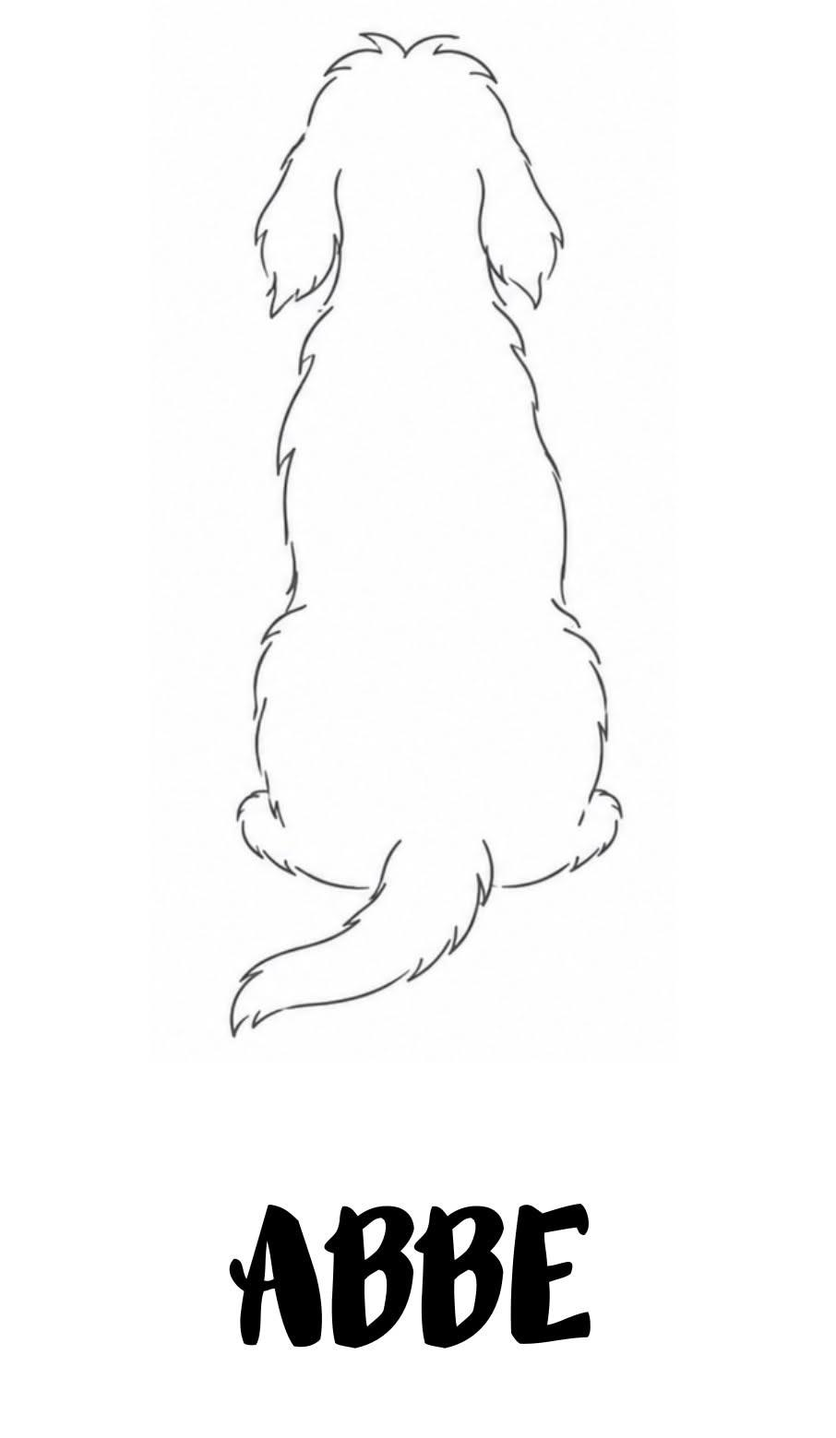adult_dog: (229, 29, 625, 1040)
